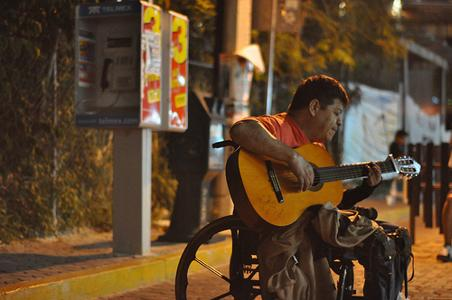person: (229, 75, 414, 300)
